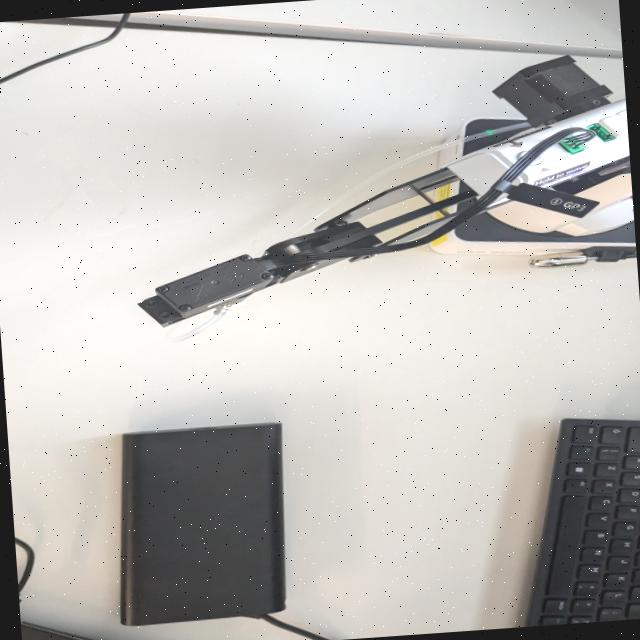Robot-end-effector-HF8z: (130, 250, 282, 332)
